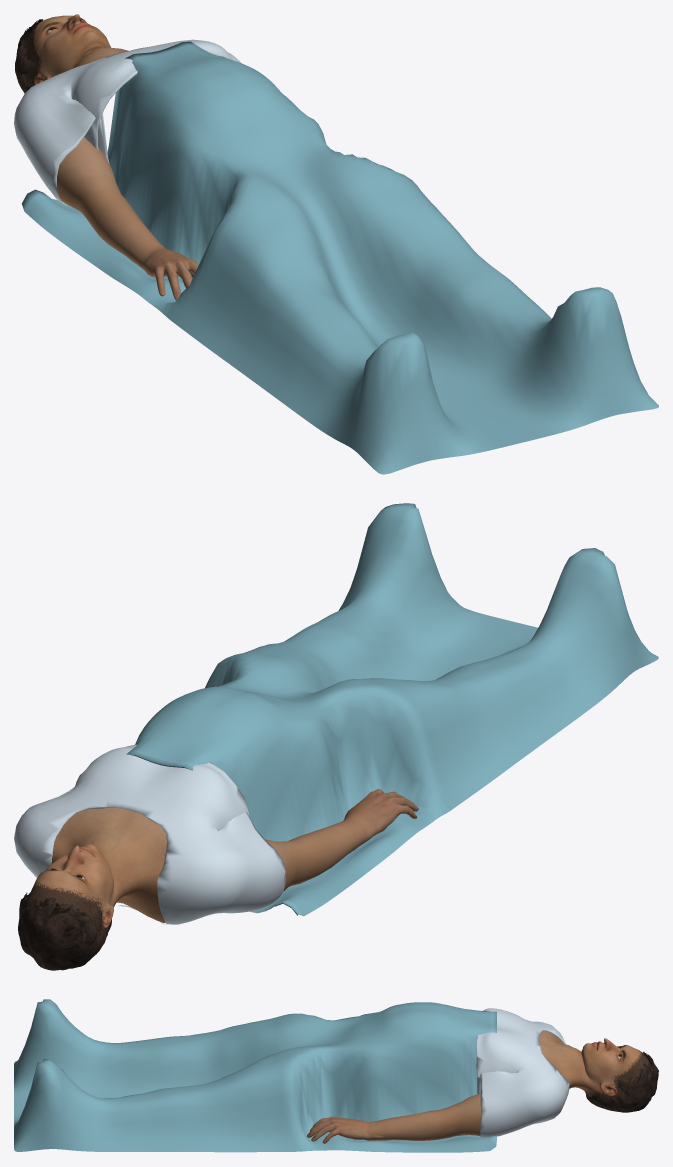
3 views of the same model, one above another, from view 1: azimuth 30°, elevation 25°; view 2: azimuth 150°, elevation 25°; view 3: azimuth 270°, elevation 25° (orthographic). The views are drawn at different scales.
Visible parts, largest first — view 1: sheet, gown, arms, body, hair; view 2: sheet, gown, body, arms, hair; view 3: sheet, gown, arms, body, hair.
Boxes of the visible parts, bbox=[...] form: sheet: bbox=[21, 41, 658, 474]; gown: bbox=[14, 39, 240, 205]; arms: bbox=[56, 137, 198, 300]; body: bbox=[23, 14, 128, 86]; hair: bbox=[15, 19, 42, 93]; sheet: bbox=[126, 503, 658, 916]; gown: bbox=[14, 744, 285, 924]; body: bbox=[30, 807, 166, 938]; arms: bbox=[265, 789, 418, 890]; hair: bbox=[18, 892, 111, 970]; sheet: bbox=[14, 999, 496, 1152]; gown: bbox=[476, 1008, 569, 1137]; arms: bbox=[307, 1093, 480, 1143]; body: bbox=[539, 1030, 649, 1098]; hair: bbox=[585, 1051, 658, 1112].
Size of the model in its own units: 0.6454 by 0.3273 by 1.93.
8 materials, 6 textured.
